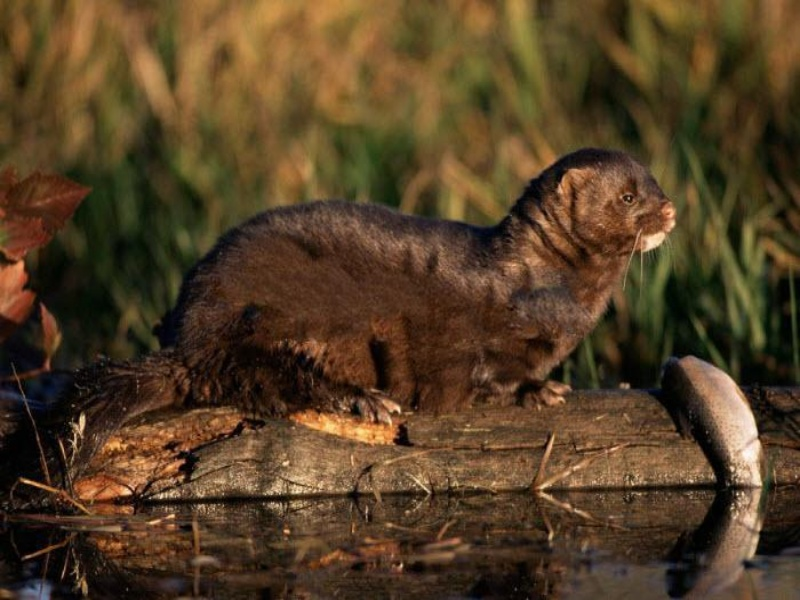minkish: (157, 147, 680, 427)
